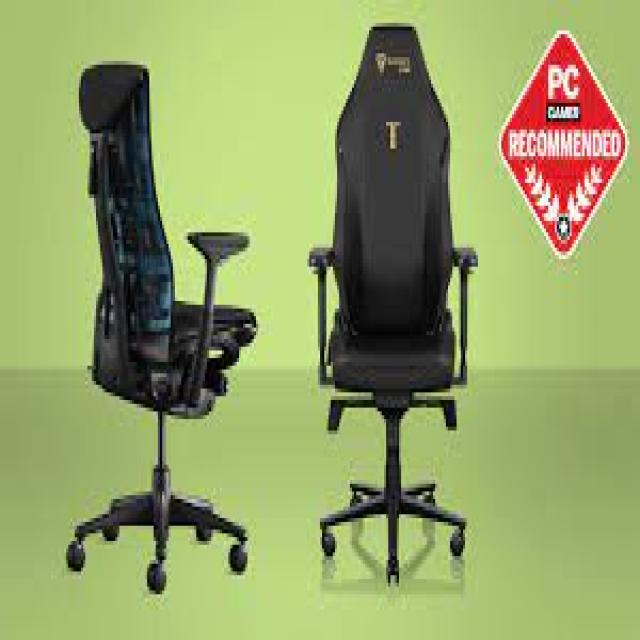chair: (47, 53, 279, 608), (286, 15, 504, 602)
